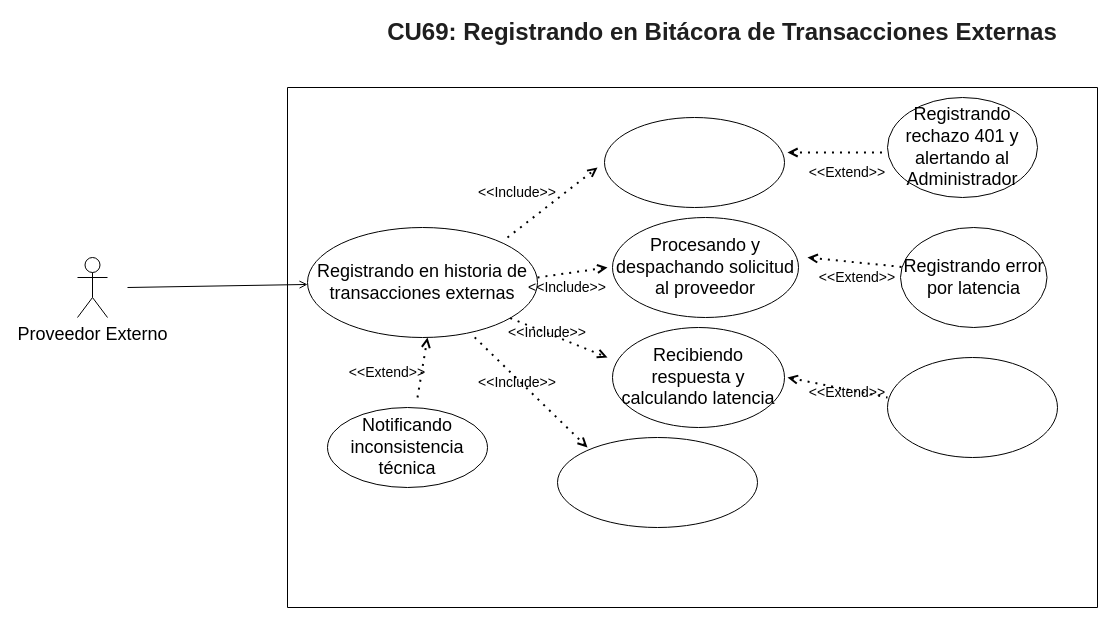
The diagram is 1116 pixels wide and 626 high, and some of its shapes have lost their labels. Here are the shapes that lost their labels. From the top down, the centre of each, then its label:
(x=694, y=162): Emitiendo peticiones y capturando metadatos
(x=972, y=407): Continuando operación y notificando inconsistencia
(x=657, y=482): Persistiendo en Bitacora_Auditoria con acción INTEGRACION_EXTERNA
